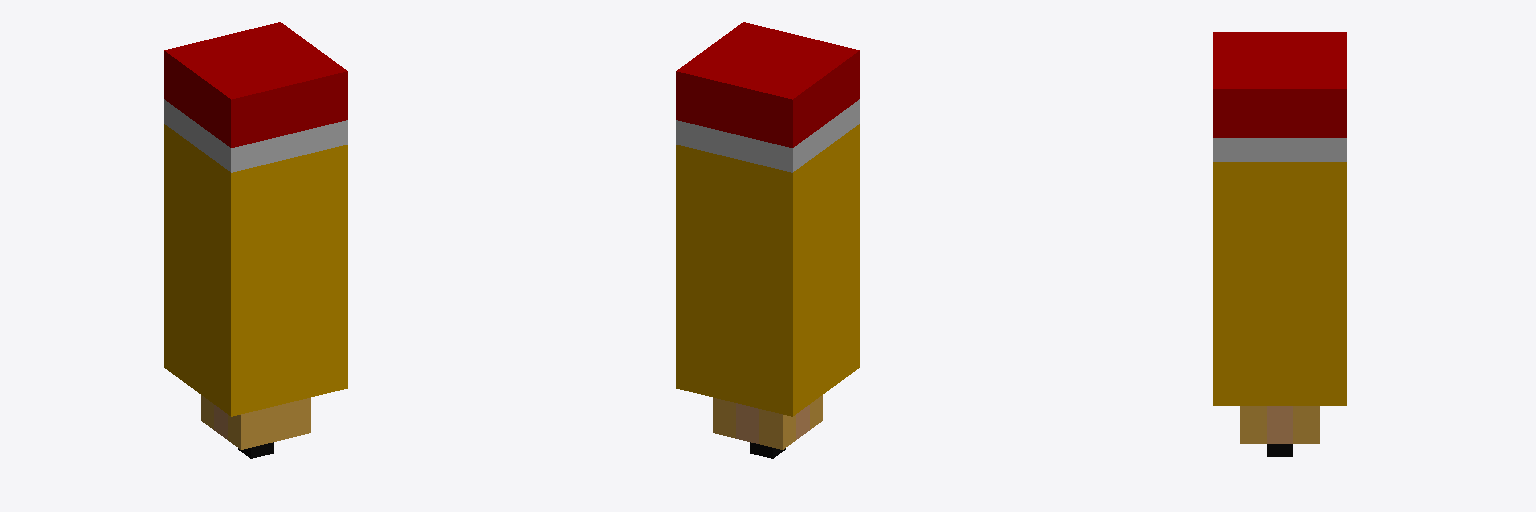
3 renders of one model, left to right at view 1: azimuth 30°, elevation 25°; view 2: azimuth 150°, elevation 25°; view 3: azimuth 270°, elevation 25°, orthographic.
Parts seen in each view (by area): view 1: pencil_25; view 2: pencil_25; view 3: pencil_25.
Part boxes in pixels (left/top/right/bottom): pencil_25: left=164, top=22, right=347, bottom=458; pencil_25: left=676, top=22, right=859, bottom=458; pencil_25: left=1213, top=32, right=1346, bottom=456.
Bounding box in the file's own units: 0.5 × 1.6 × 0.5.
1 materials, 1 textured.